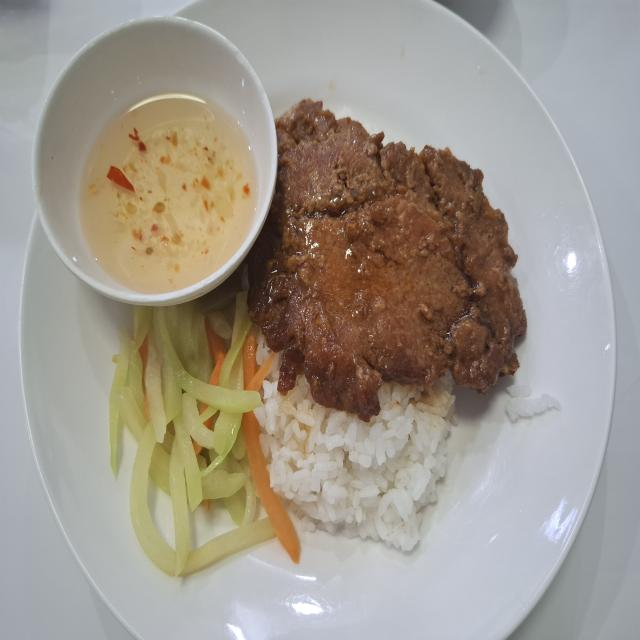com: (255, 379, 454, 551)
nuoc mam: (71, 97, 258, 296)
rau: (109, 293, 283, 576)
suon mieng: (249, 100, 526, 420)
